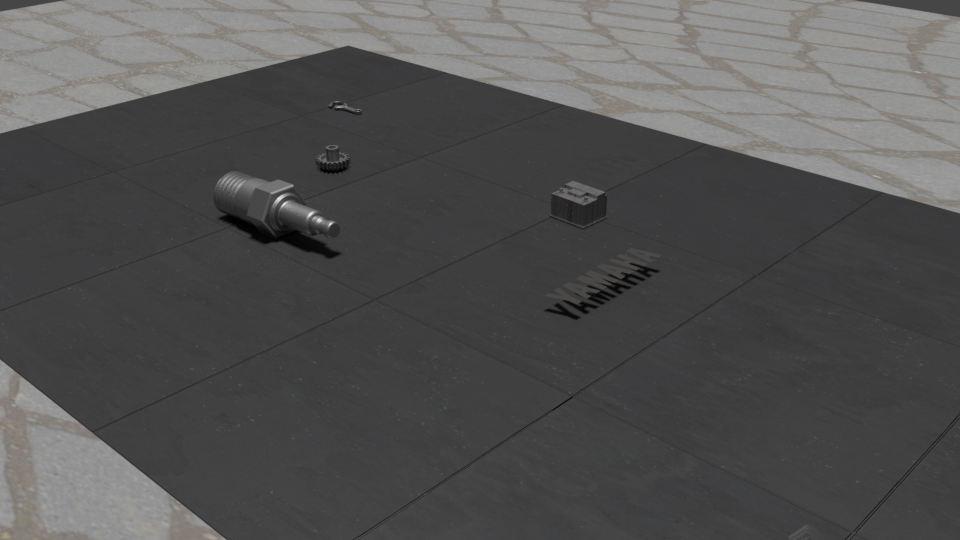yamaha_letters: (543, 198, 662, 305)
